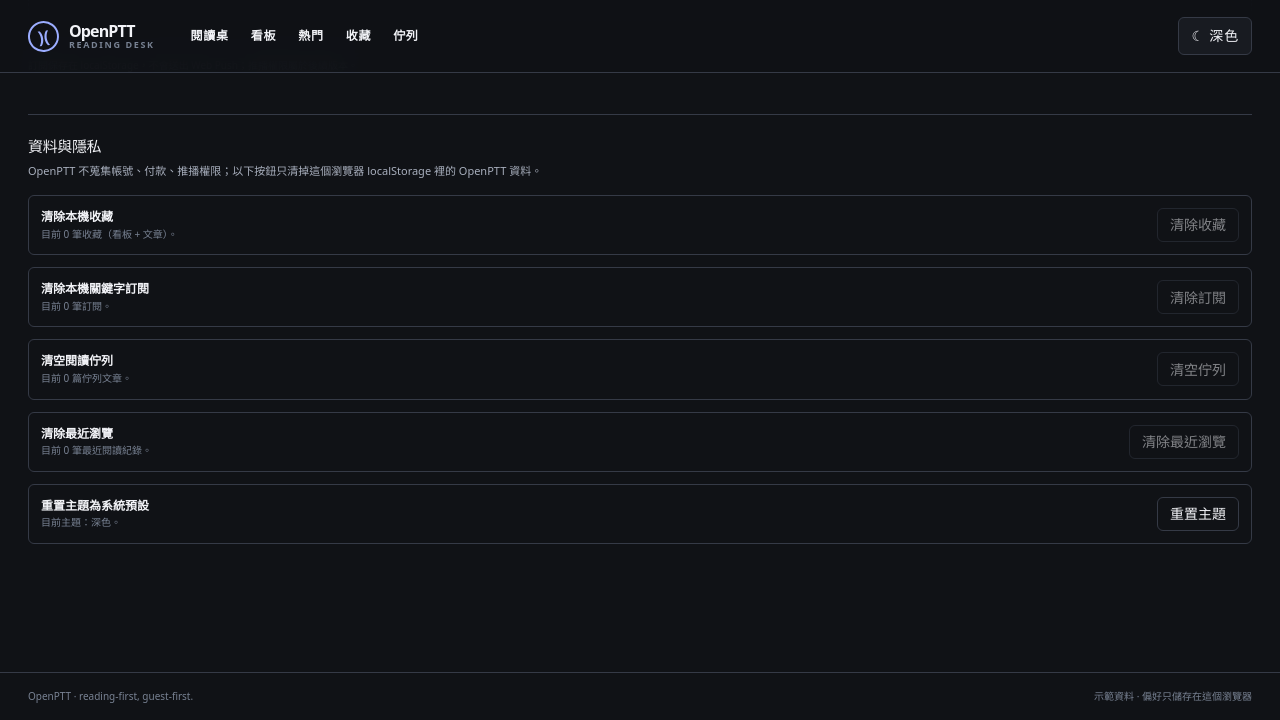
Sprint 2 - 真實 Ptt 看板清單 › 重置主題後 localStorage 改為 system 並禁用按鈕
This screenshot has width=1280, height=720.
(page scrolled)
Click the button with test id "privacy-reset-theme".
click(1198, 514)  # box [1157, 497, 1239, 531]
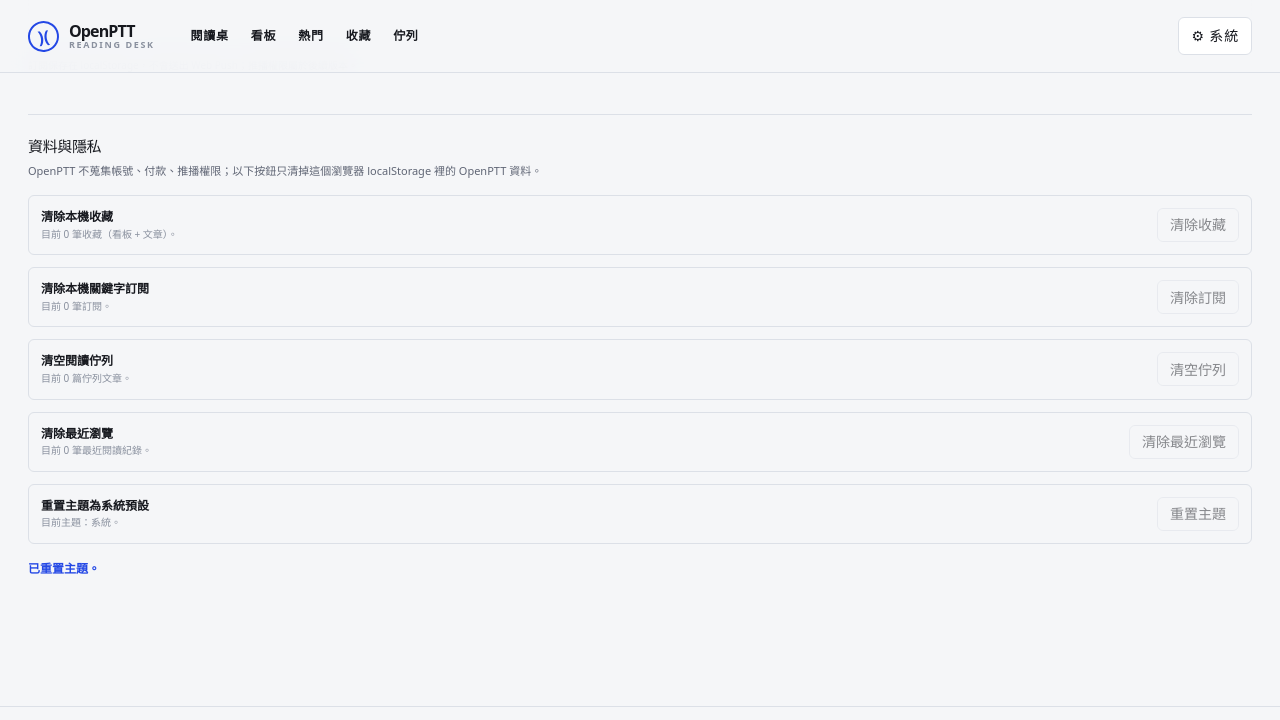
Expected: the button with test id "privacy-reset-theme" is disabled, [1157, 497, 1239, 531]
Expected: the message with test id "privacy-feedback" shows "已重置主題", [28, 560, 100, 577]
